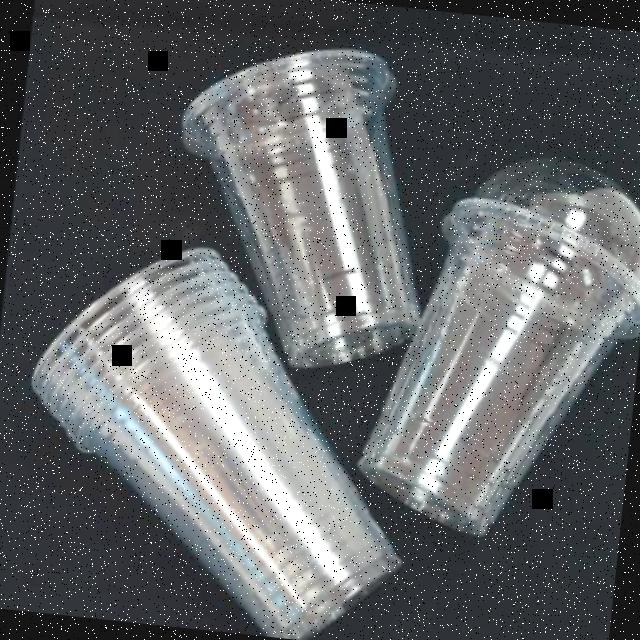plastic_box: (347, 138, 640, 556), (153, 33, 444, 384)
